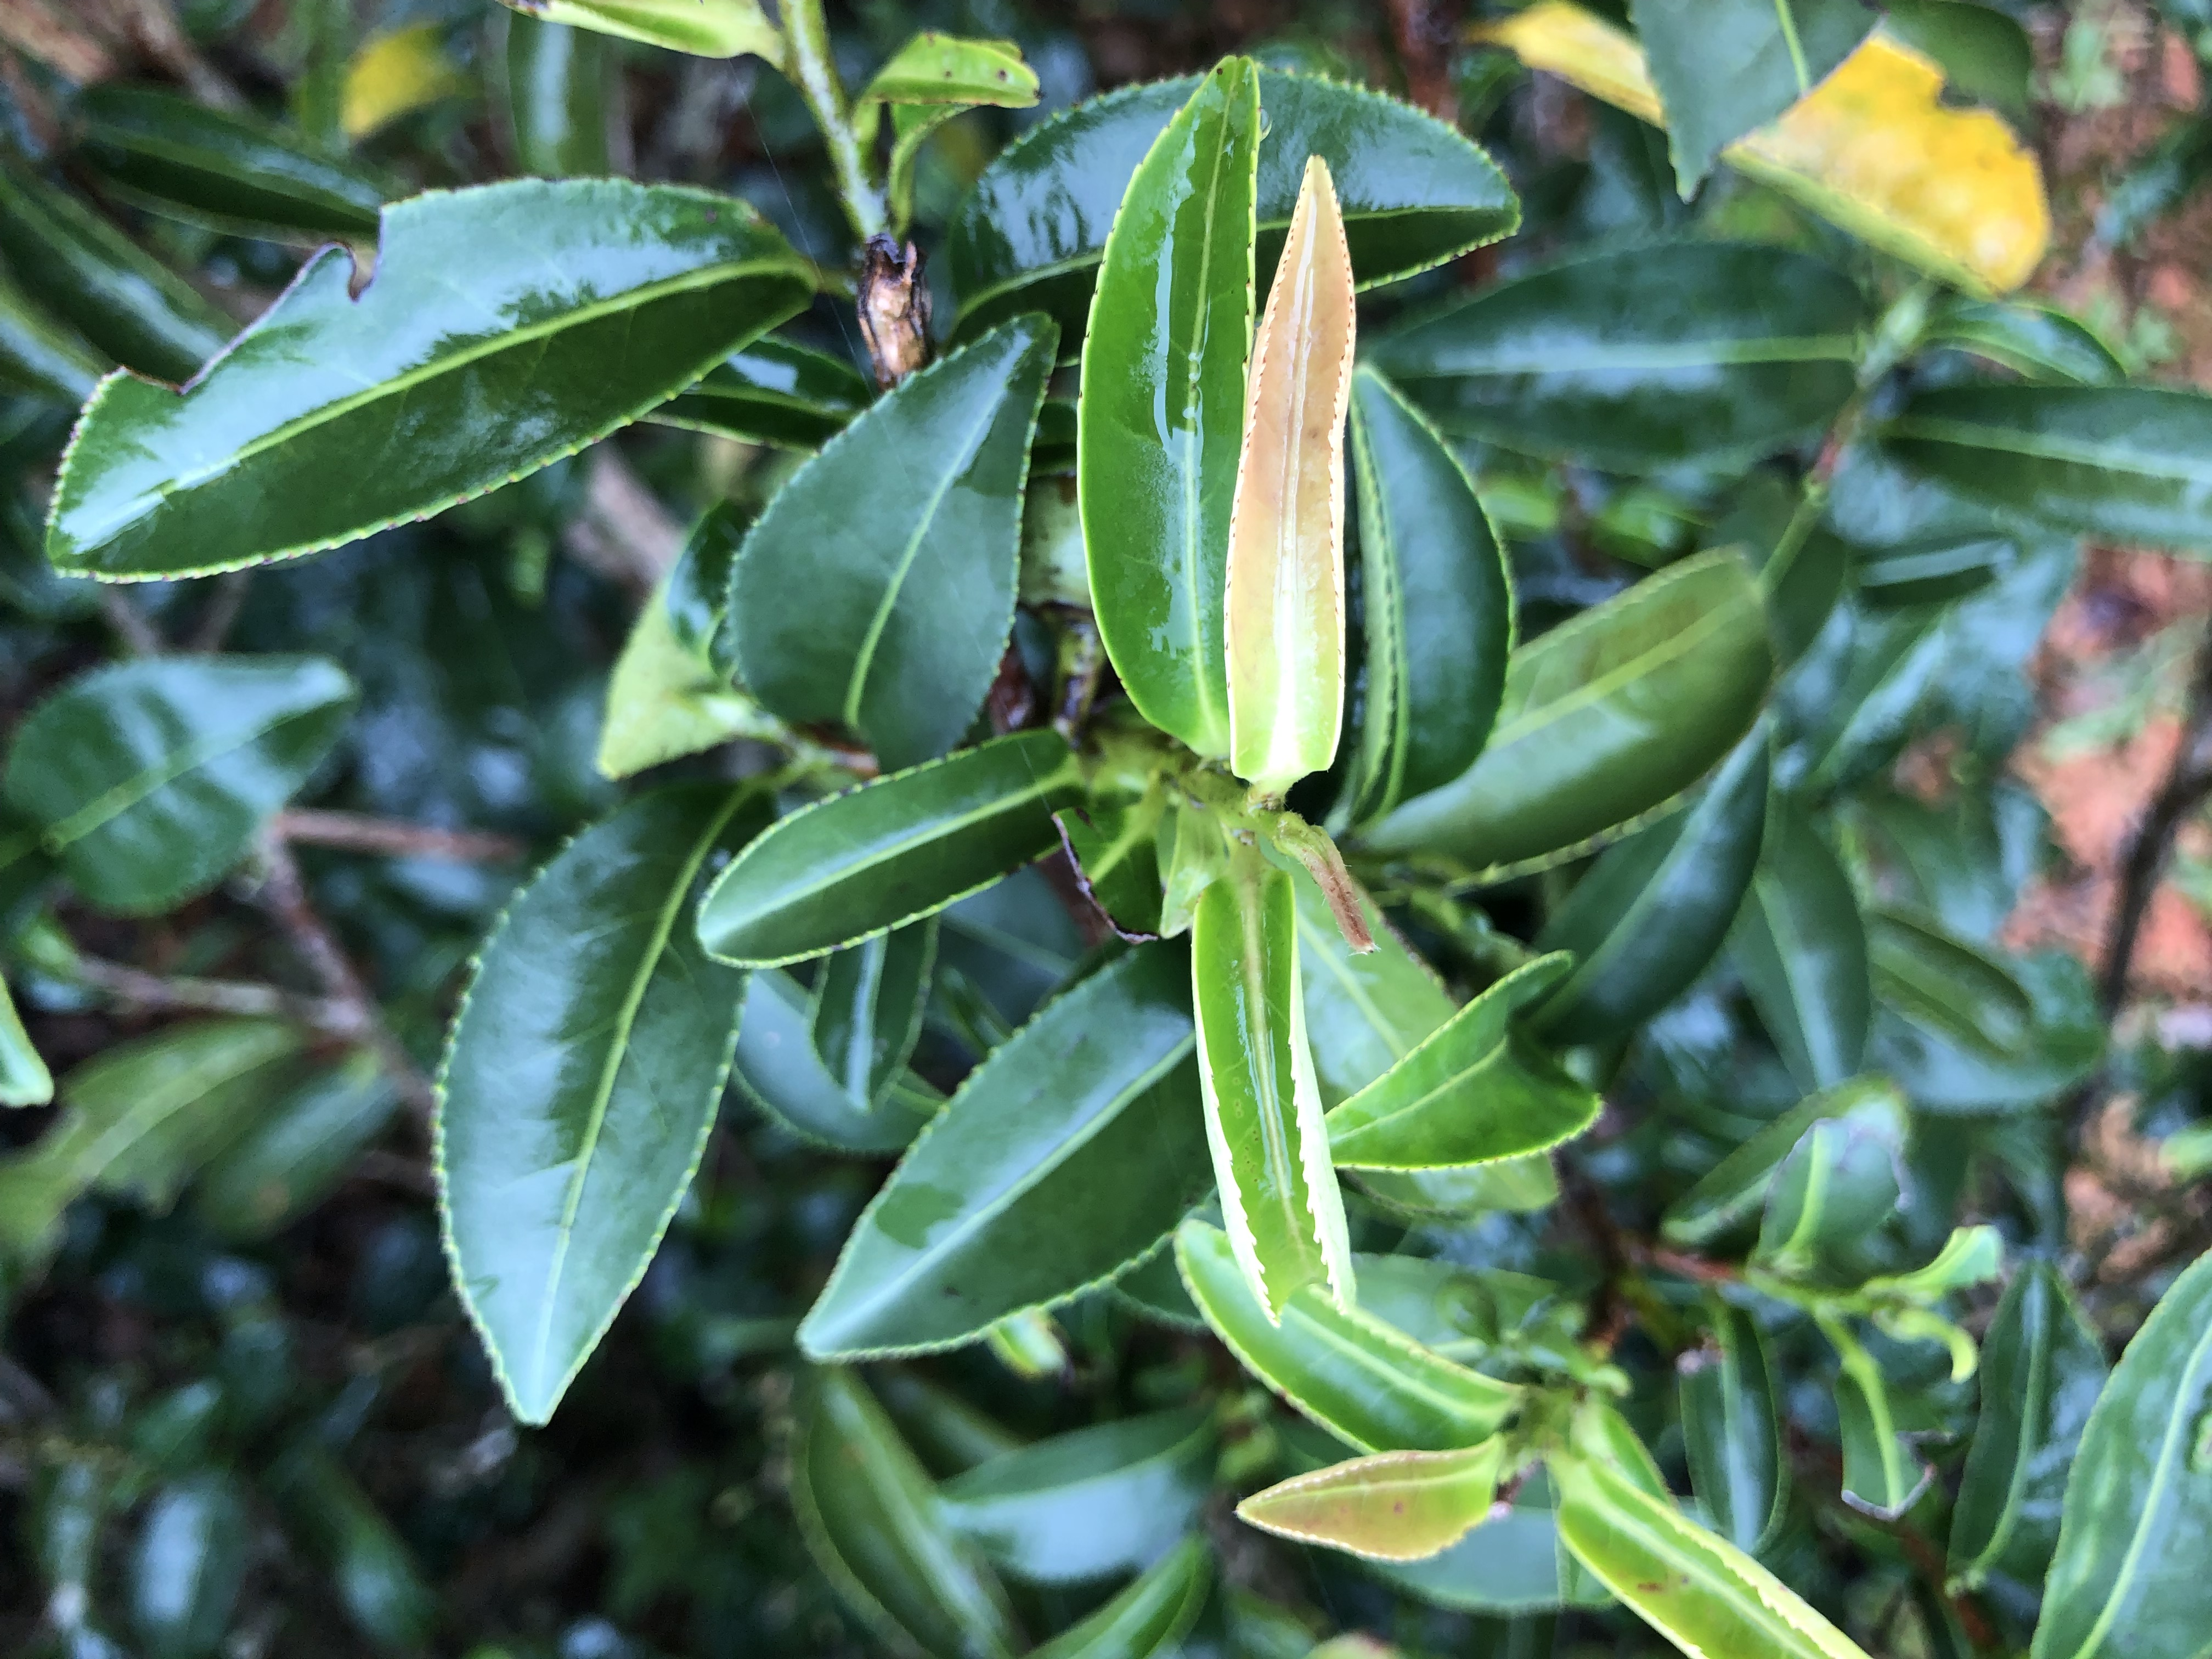formosa: (1207, 129, 1367, 789)
